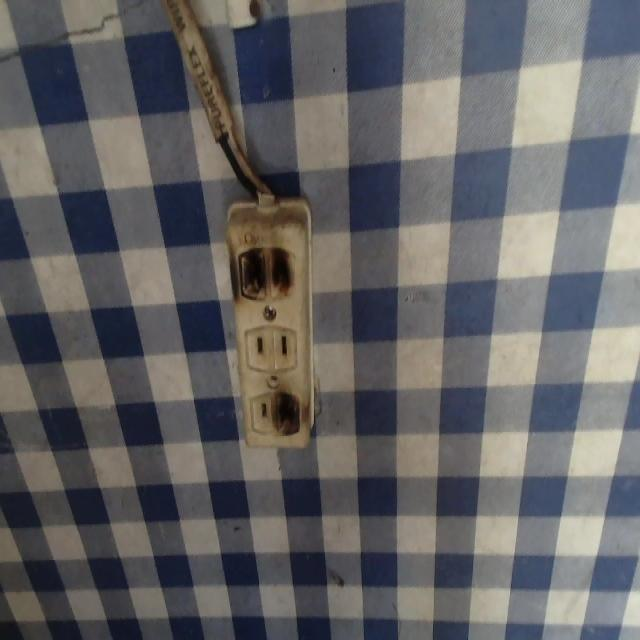-: (226, 240, 299, 304), (267, 388, 304, 437)
